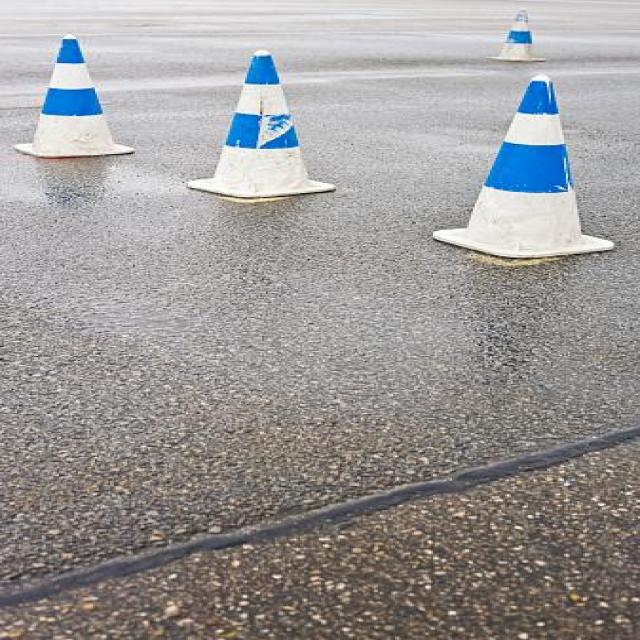Cone: (433, 77, 619, 254), (186, 47, 336, 198), (11, 38, 133, 156), (498, 8, 545, 60)
